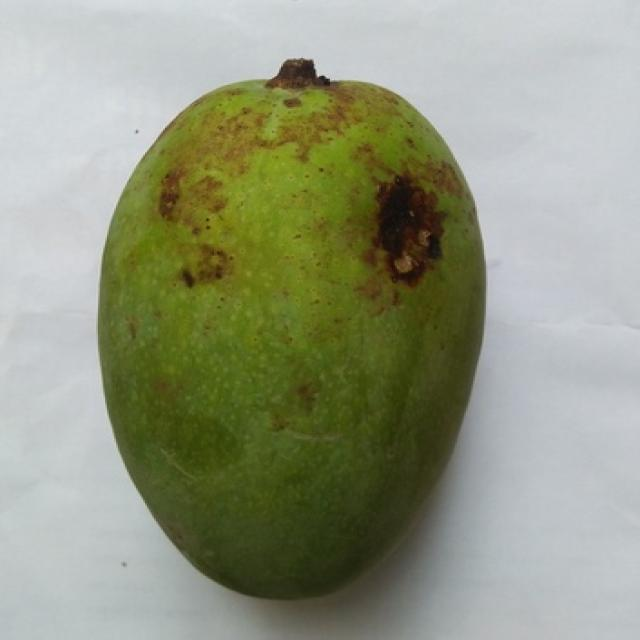Mango: (98, 80, 482, 597)
